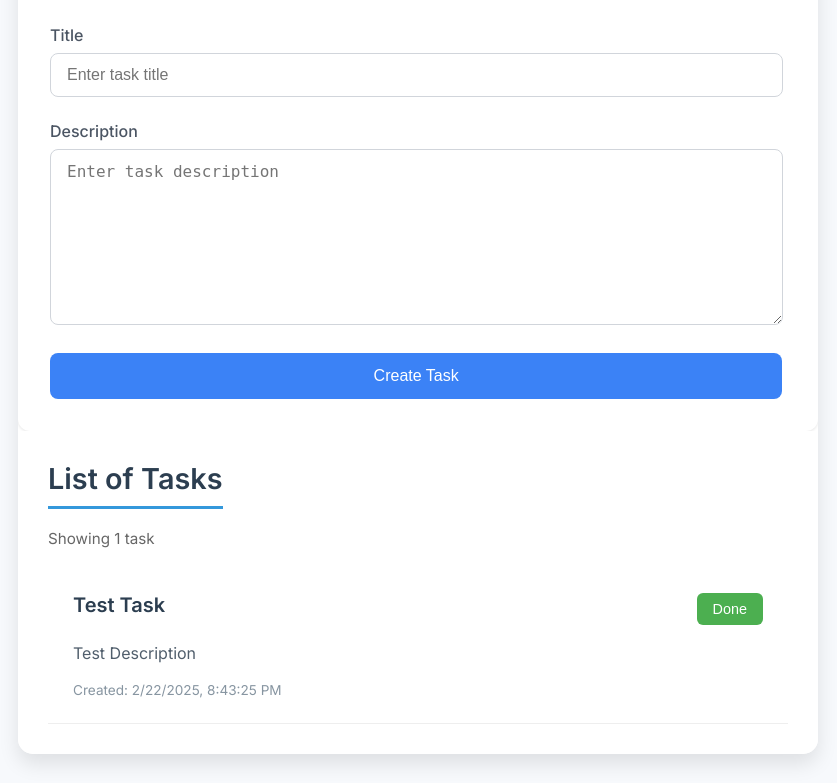
Scenario: App Component › handles task completion error
(page scrolled)
expect the heading "Test Task" is shown: met, box [73, 593, 165, 617]
Click the button "Done" at coordinates (730, 609), box [697, 593, 763, 625]
(page scrolled)
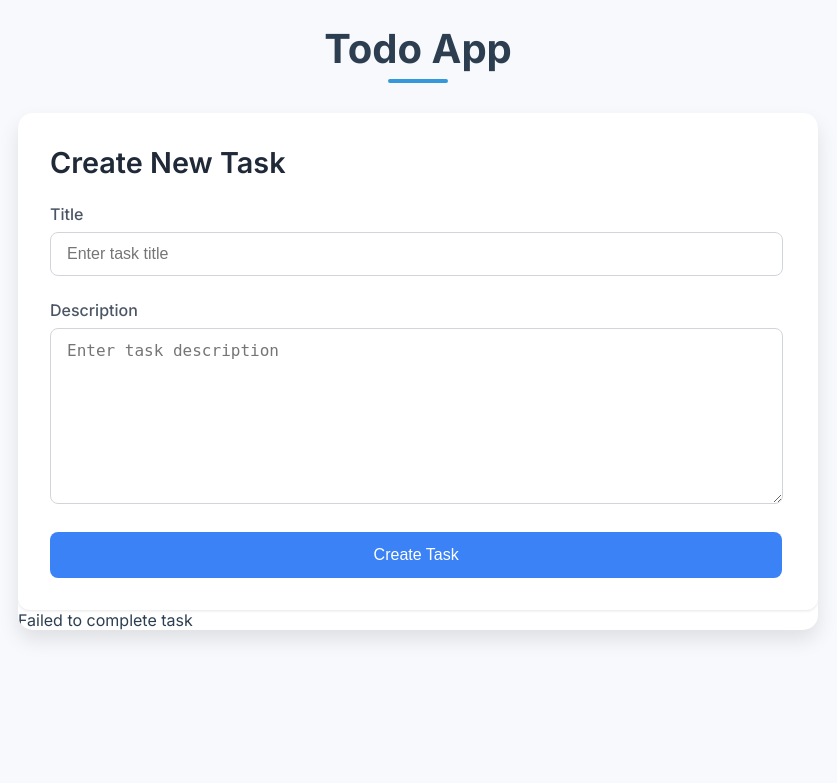
expect the text "Failed to complete task" is shown: met, box [18, 610, 193, 630]
